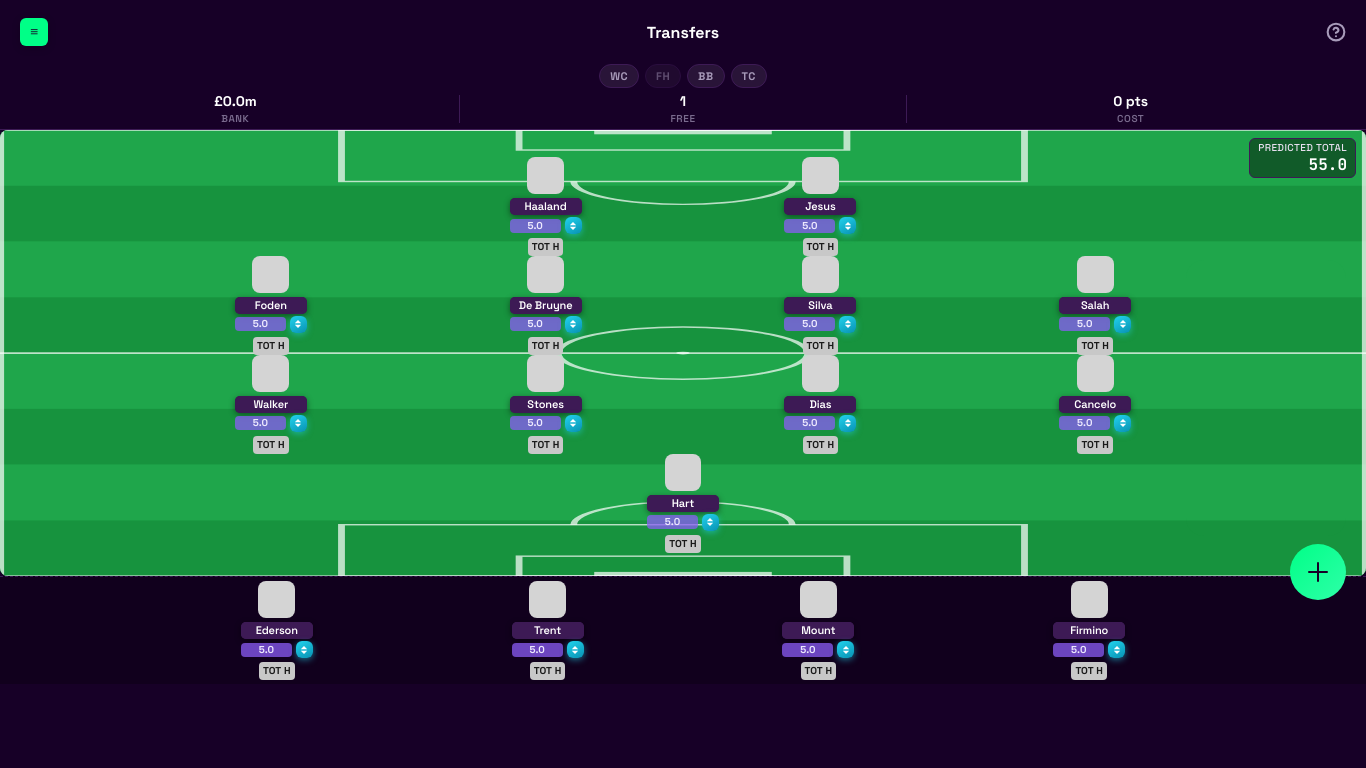
Scenario: TransferScreen chip statuses › shows toast when a used chip button is tapped
This screenshot has width=1366, height=768.
Click the button "FH": (663, 76) [645,64,681,88]
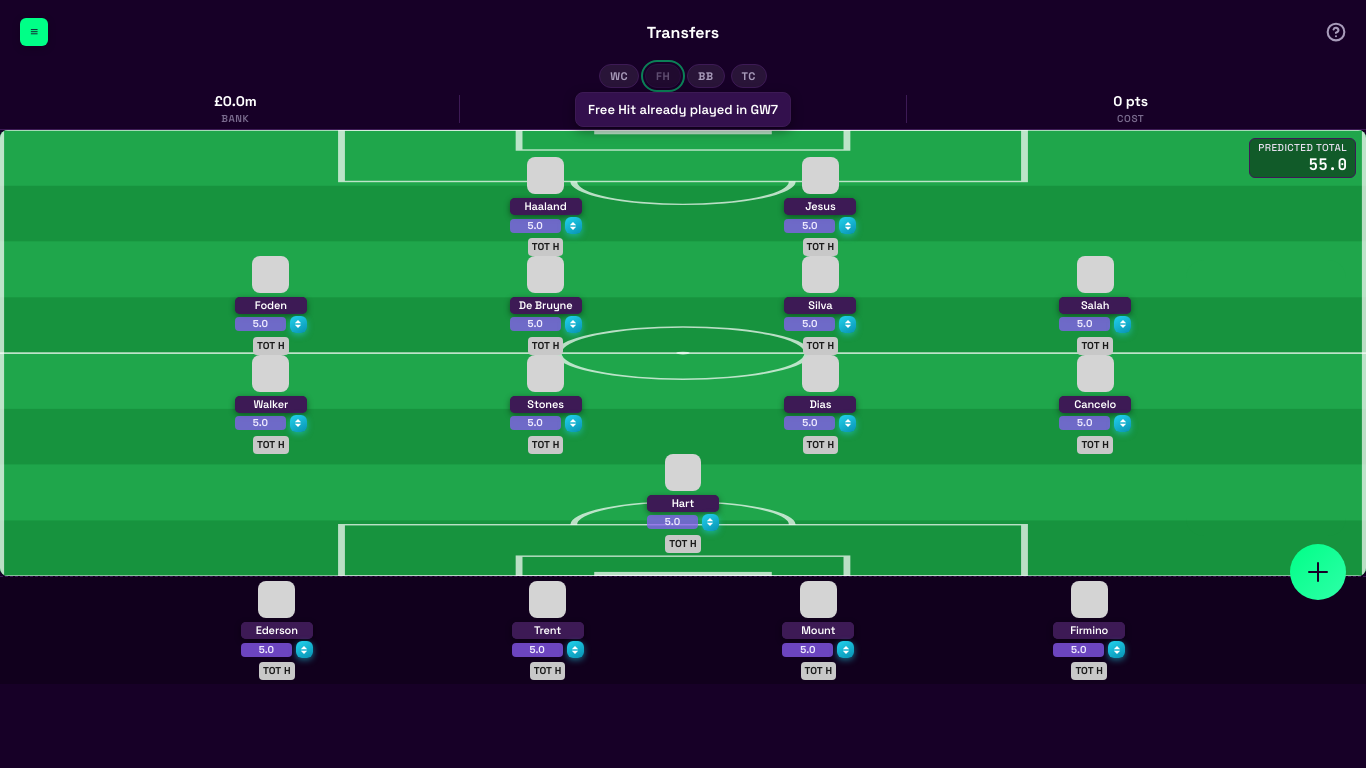
Check: the message reads "Free Hit already played in GW7", box [588,101,778,118]
